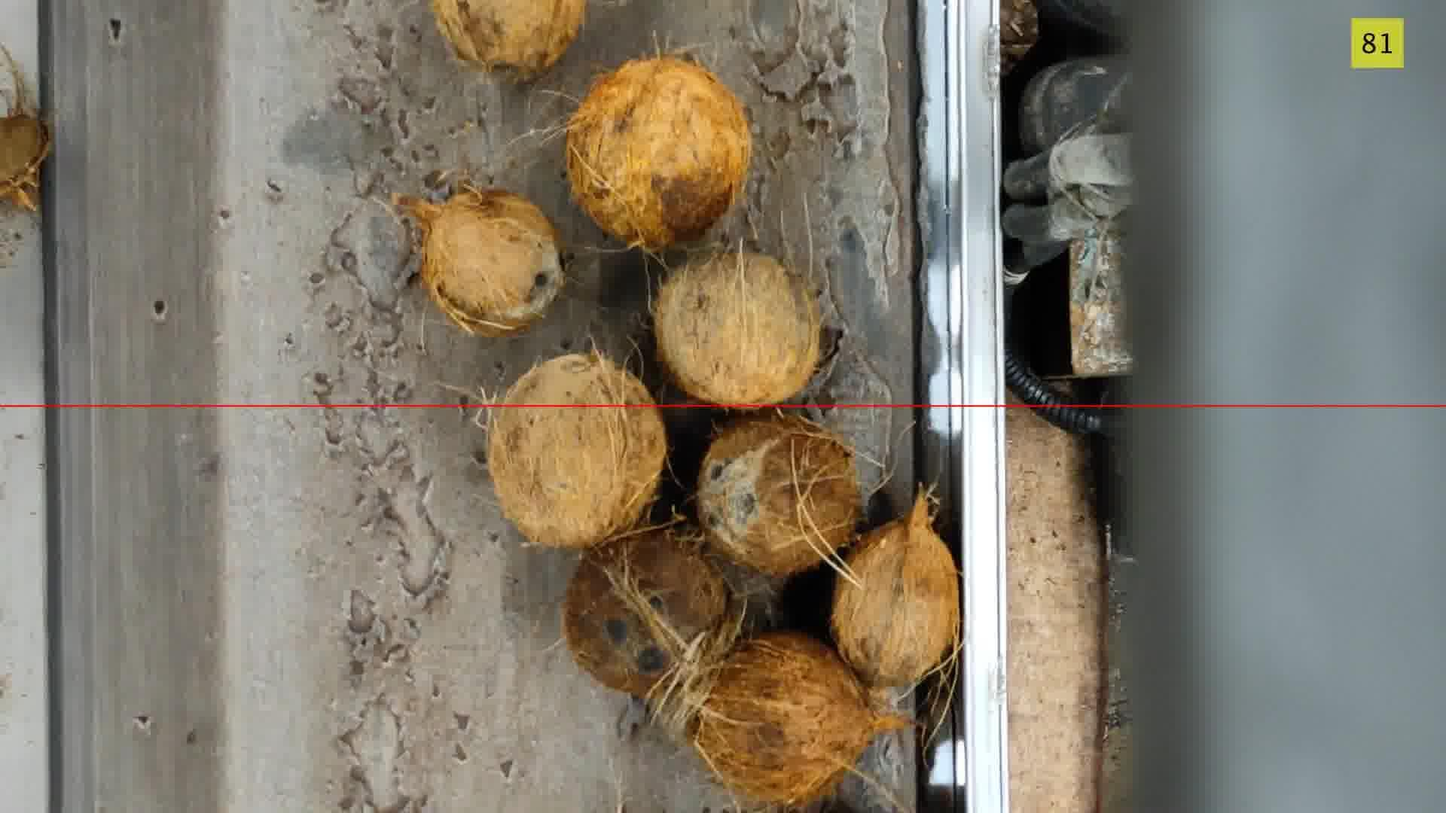Coconut: (691, 632, 911, 805), (566, 56, 752, 251), (487, 354, 667, 548), (562, 528, 731, 698), (696, 413, 862, 577), (653, 251, 821, 406), (831, 494, 960, 687), (395, 190, 565, 336), (432, 0, 586, 80), (0, 47, 51, 210)
